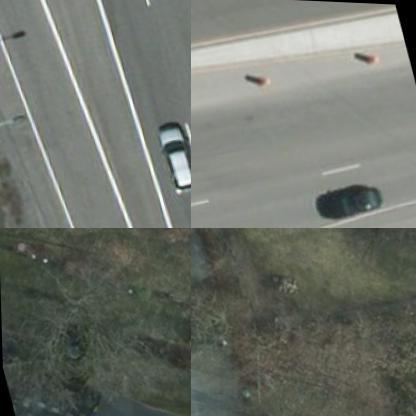car: (310, 175, 388, 220), (154, 115, 190, 191)
